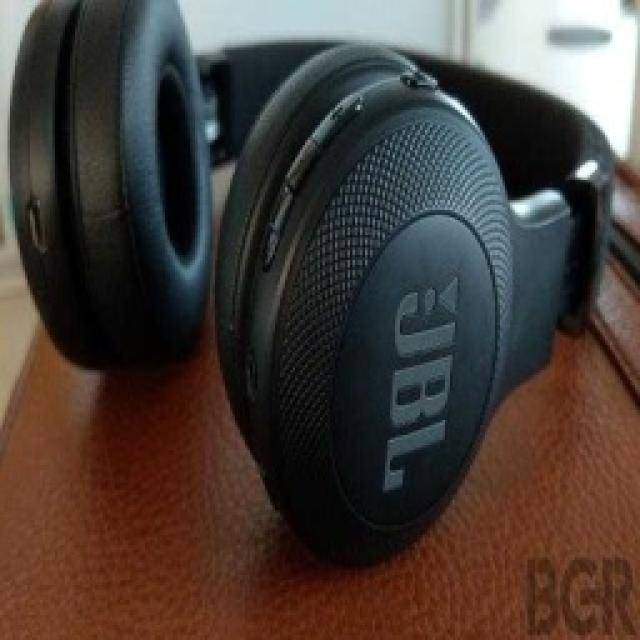headphones: (5, 0, 617, 565)
